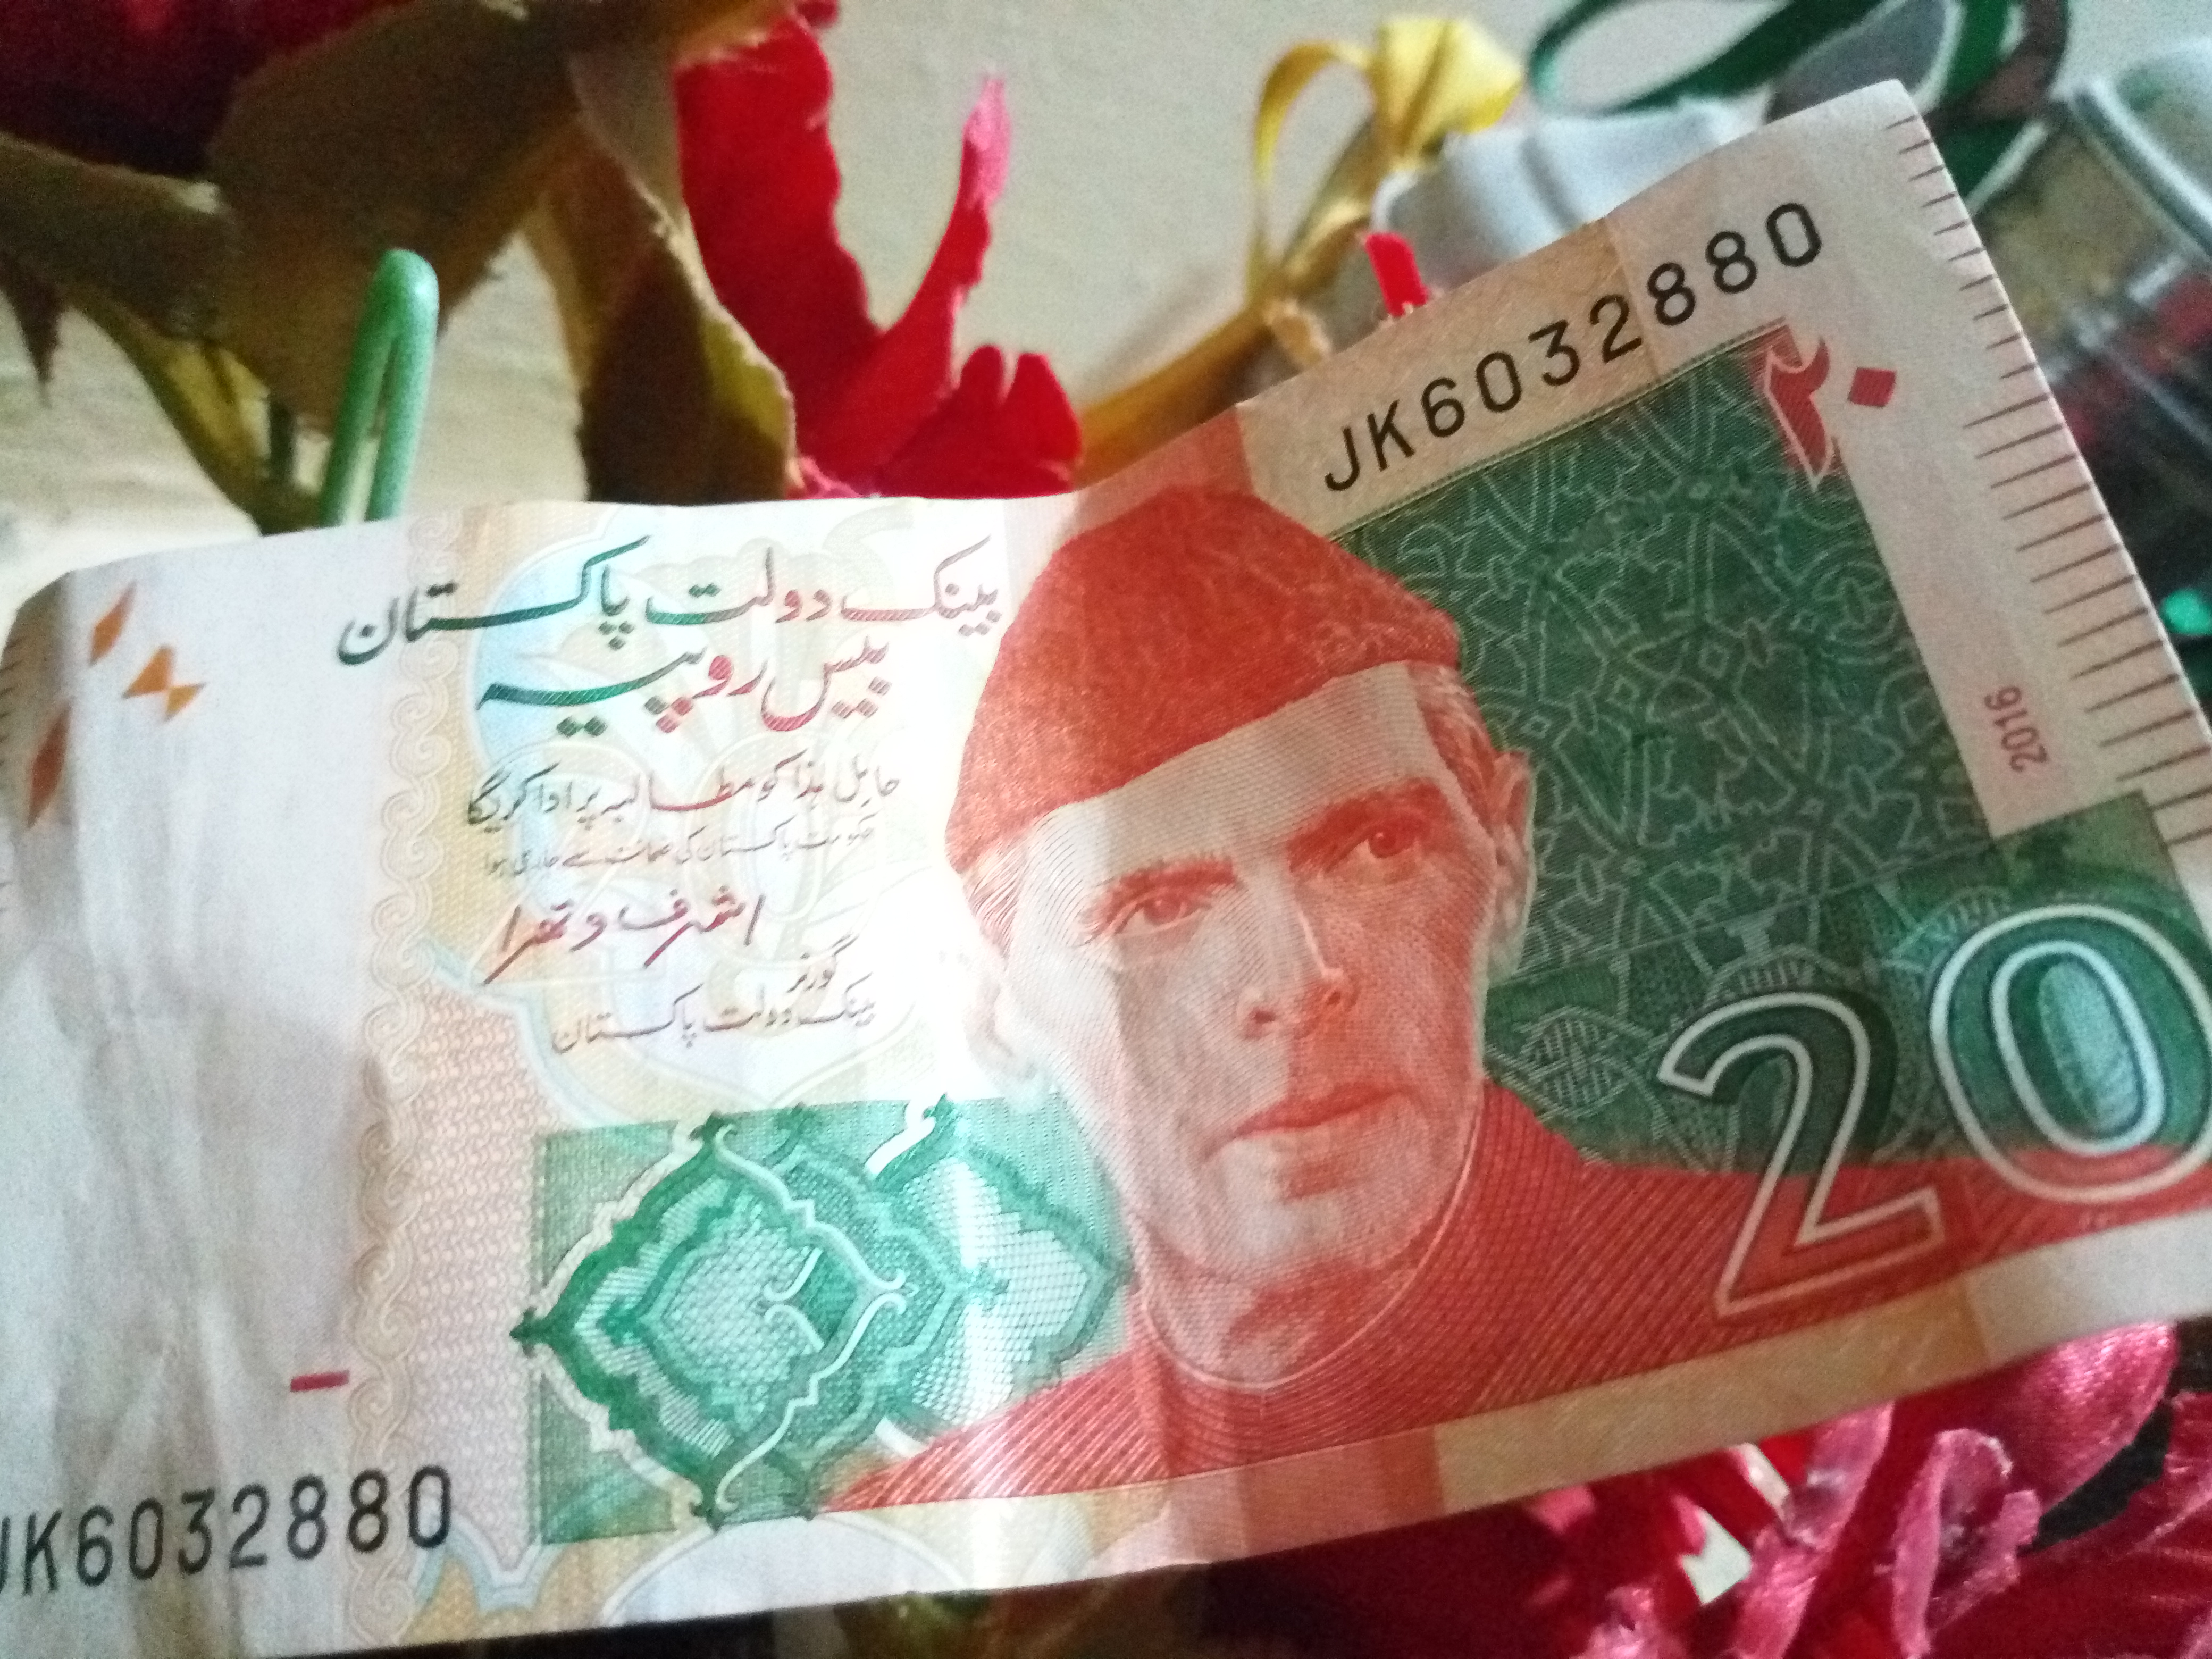20 rupee: (85, 103, 2151, 1631), (219, 1161, 446, 1483)
